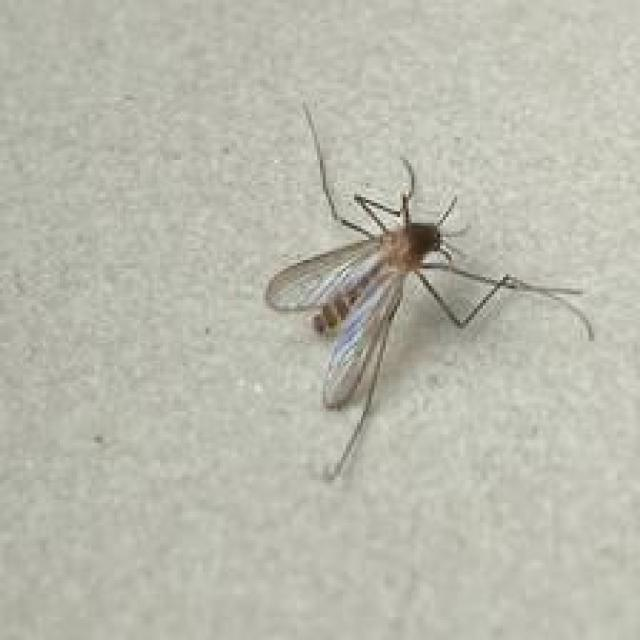Culex: (263, 101, 594, 482)
